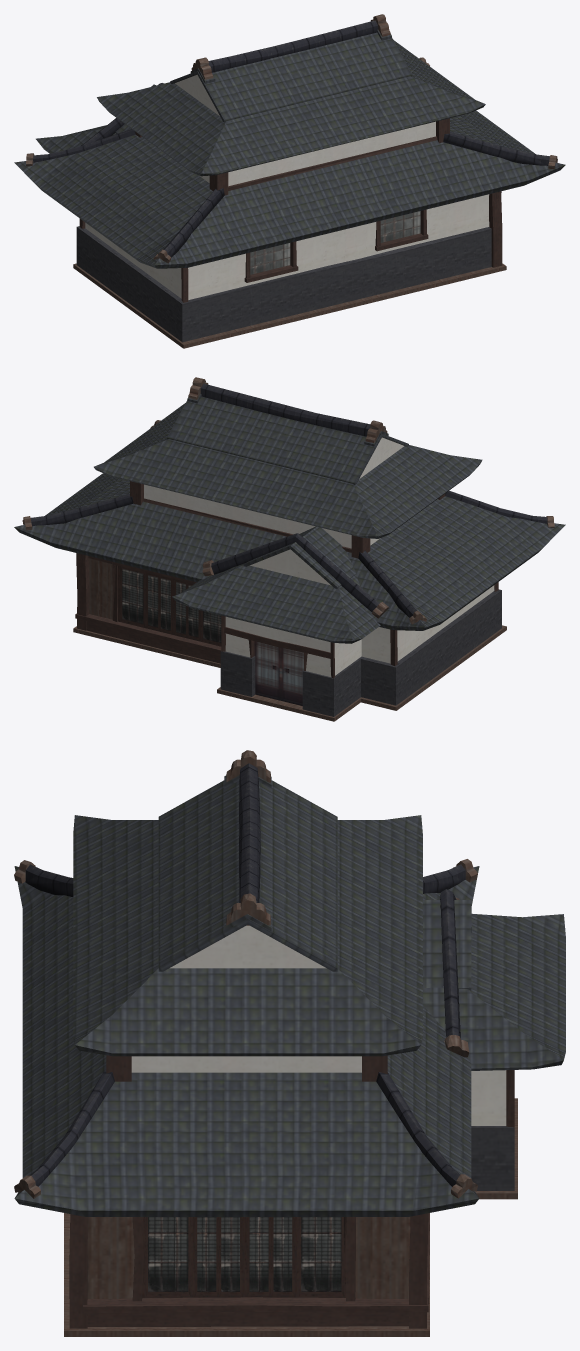
Rendered from NNJ0110018.fbx.
3 renders of one model, top to bottom at view 1: azimuth 30°, elevation 25°; view 2: azimuth 150°, elevation 25°; view 3: azimuth 270°, elevation 25°, orthographic. The views are drawn at different scales.
Visible parts, largest first — view 1: smNNJ0110018; view 2: smNNJ0110018; view 3: smNNJ0110018.
Boxes of the visible parts, x1,y1,x2,y2 form: smNNJ0110018: (14,14,565,348); smNNJ0110018: (14,377,565,721); smNNJ0110018: (14,750,565,1336).
Bounding box in the file's own units: 1903 × 1021 × 1335.
1 material, 1 textured.
